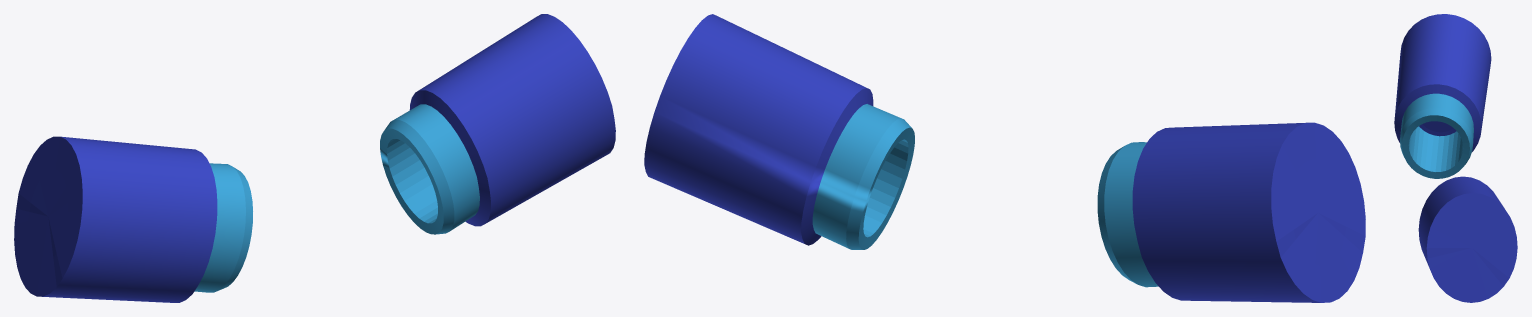
Rendered from Sleeves.fbx.
3 views of the same model, side by side, from view 1: azimuth 30°, elevation 25°; view 2: azimuth 150°, elevation 25°; view 3: azimuth 270°, elevation 25° (orthographic). The views are drawn at different scales.
Parts seen in each view (by area): view 1: Cylinder.011, Cylinder.012; view 2: Cylinder.011, Cylinder.012; view 3: Cylinder.011, Cylinder.012.
Boxes of the visible parts, x1,y1,x2,y2 form: Cylinder.011: (14, 136, 252, 302); Cylinder.012: (380, 14, 615, 234); Cylinder.011: (1097, 122, 1365, 302); Cylinder.012: (644, 14, 914, 249); Cylinder.011: (1394, 14, 1491, 178); Cylinder.012: (1418, 176, 1517, 302).
Bounding box in the file's own units: 111 × 35.03 × 29.87.
